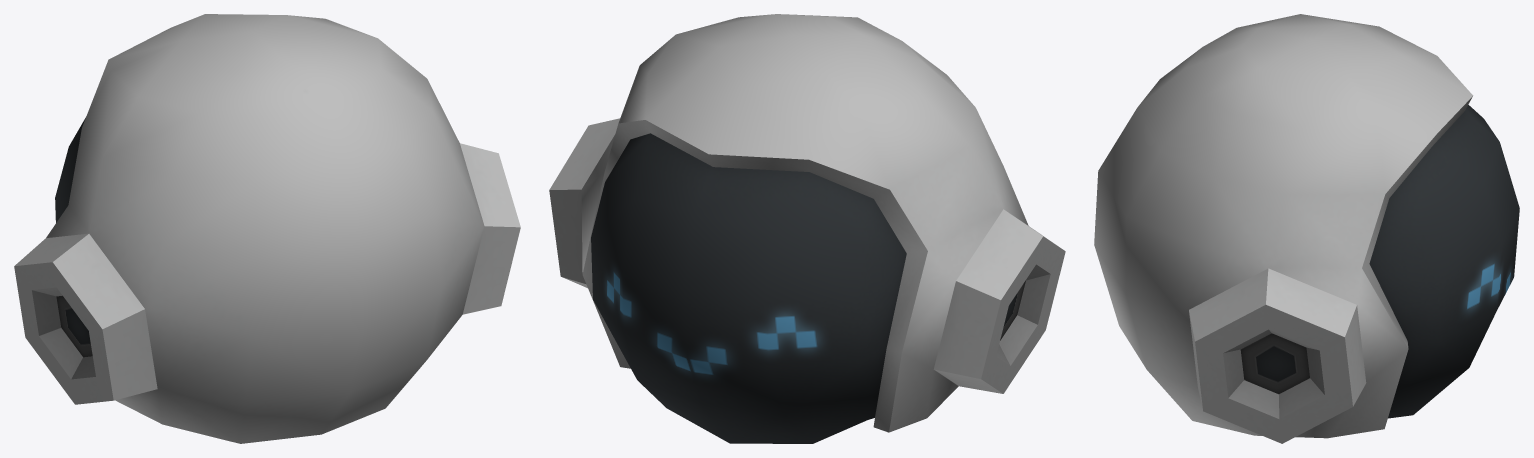
File: head.glb
3 renders of one model, left to right at view 1: azimuth 30°, elevation 25°; view 2: azimuth 150°, elevation 25°; view 3: azimuth 270°, elevation 25°, orthographic. The views are drawn at different scales.
Visible parts, largest first — view 1: Robot001_mesh; view 2: Robot001_mesh; view 3: Robot001_mesh.
Boxes of the visible parts, x1,y1,x2,y2 form: Robot001_mesh: (14,14,520,443); Robot001_mesh: (549,14,1065,443); Robot001_mesh: (1094,14,1519,443).
Size of the model in its own units: 0.637 by 0.5 by 0.5335.
1 material, 1 textured.
